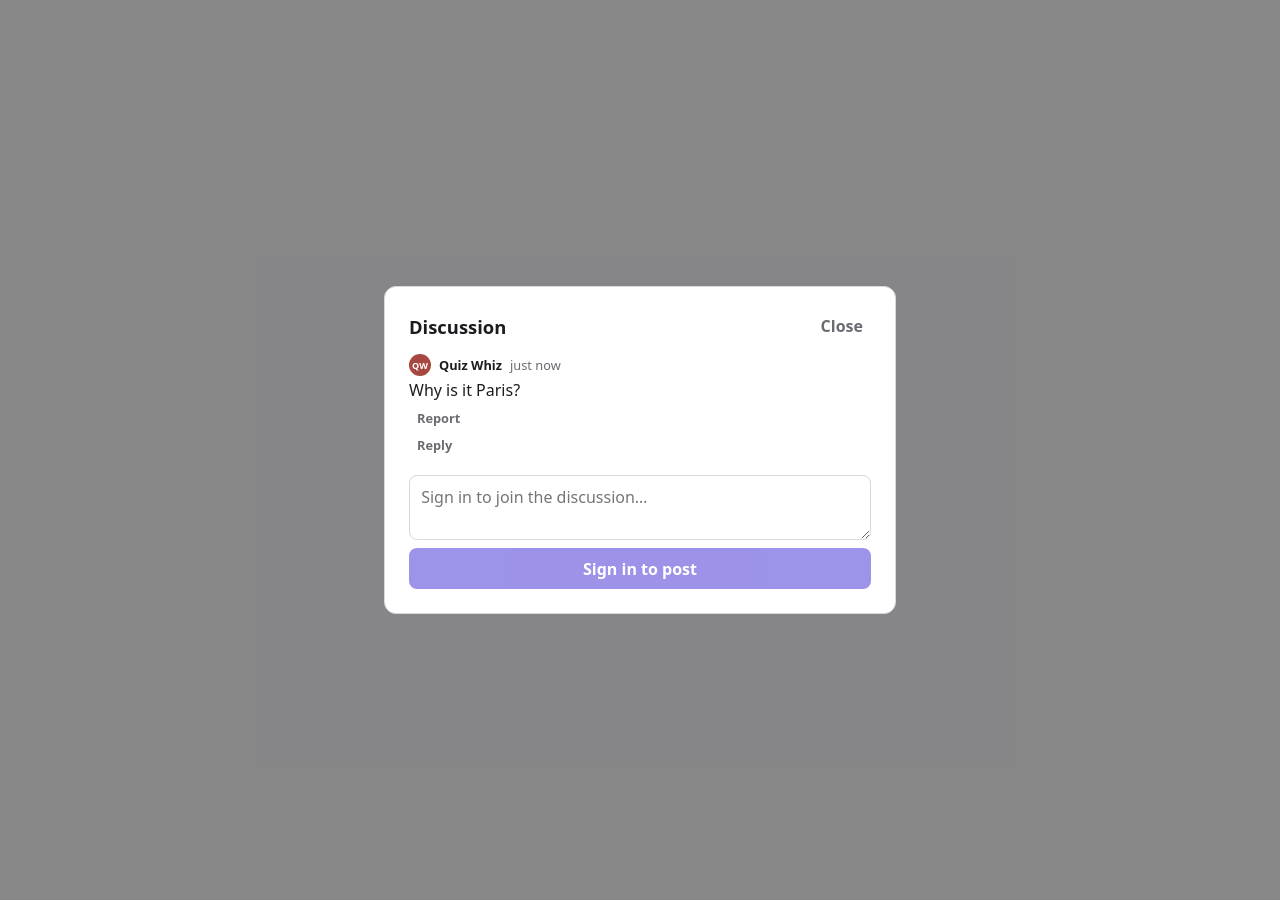
it: DiscussionPanel › a guest reporting is routed through the sign-in conversion
Expected: the text "Why is it Paris?" is shown, [409,379,520,401]
What coordinates should you click on to do the following:
click the button "Report"
I would click on:
 (439, 418)
Its box is [409,404,468,431].
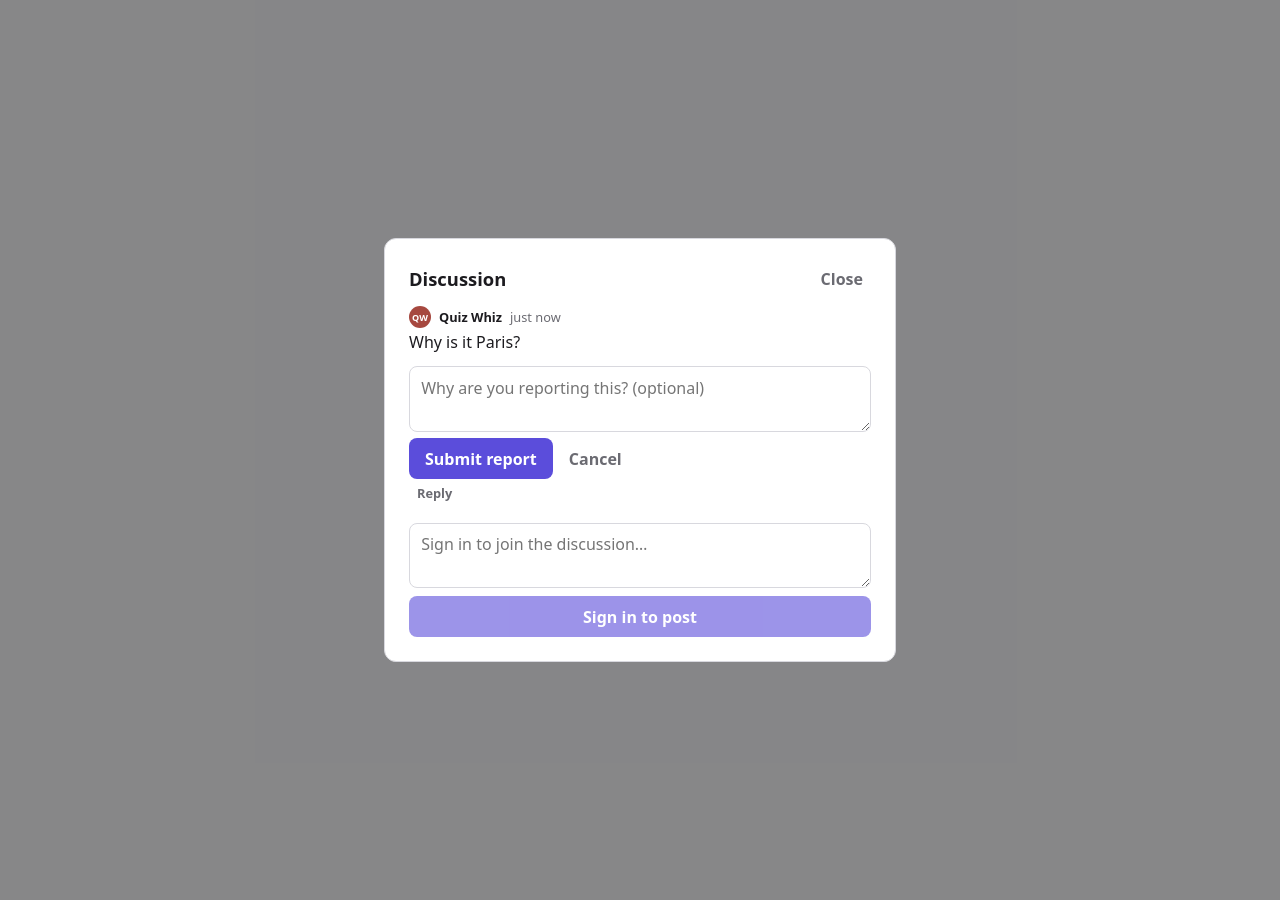
What coordinates should you click on to do the following:
click the button "Submit report"
I would click on:
 (481, 459)
Its box is [409,438,553,479].
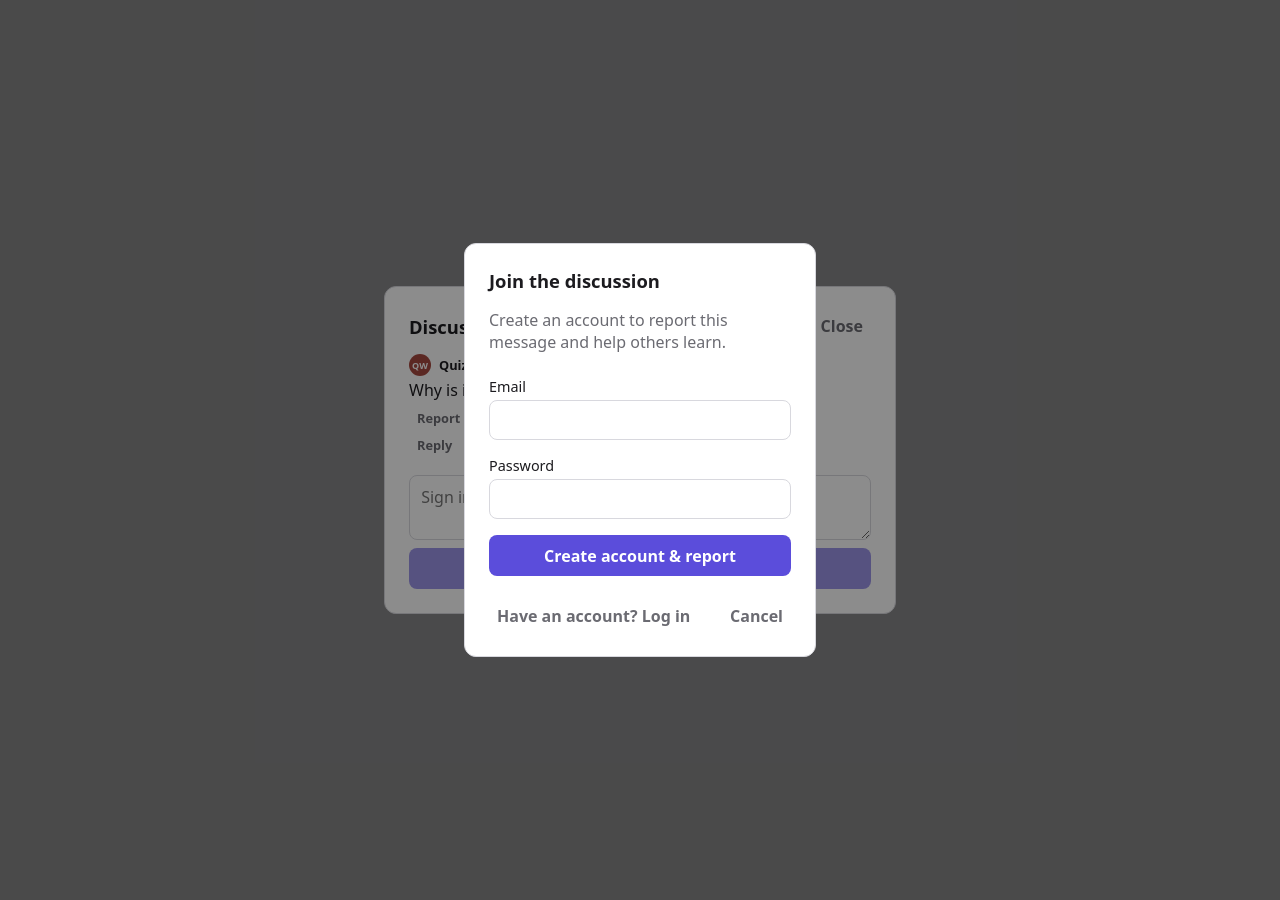
Expected: the heading "Join the discussion" is shown, [489,268,660,293]
